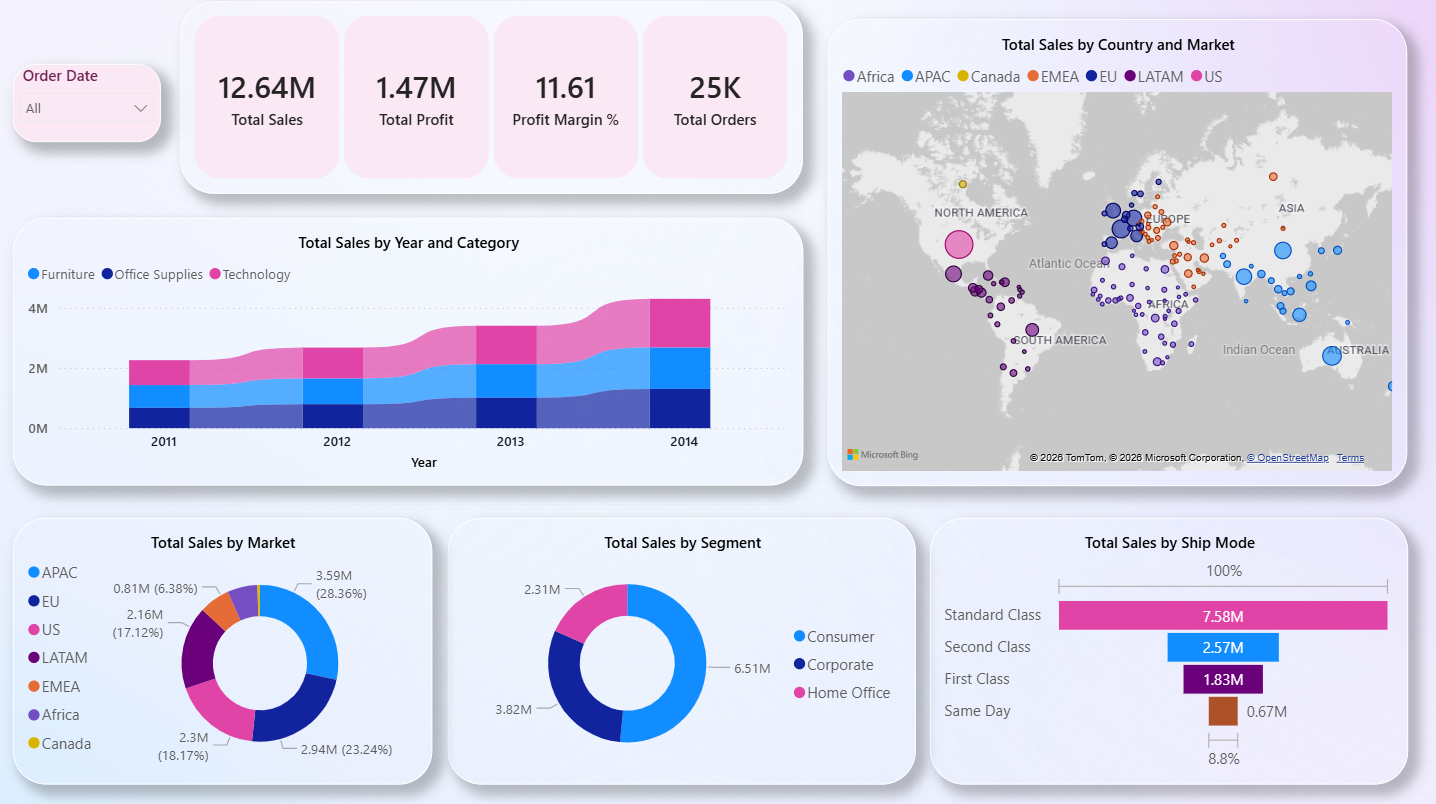

The page's visual inventory and layout, read from the dashboard file:
{"tool":"powerbi","page":{"name":"Page 1","canvas":[1280,720],"ordinal":0},"visuals":[{"type":"cardVisual","fields":{"Data":["Global_Superstore2.Total Sales","Global_Superstore2.Total Profit","Global_Superstore2.Profit Margin %","Global_Superstore2.Total Orders"]},"box":[161.9,2.7,554.4,171.5],"z":0},{"type":"ribbonChart","fields":{"Category":["Global_Superstore2.Order Date.Variation.Date Hierarchy.Year","Global_Superstore2.Order Date.Variation.Date Hierarchy.Quarter","Global_Superstore2.Order Date.Variation.Date Hierarchy.Month","Global_Superstore2.Order Date.Variation.Date Hierarchy.Day"],"Y":["Global_Superstore2.Total Sales"],"Series":["Global_Superstore2.Category"]},"box":[12.3,194.9,703.9,238.8],"z":1000},{"type":"donutChart","fields":{"Category":["Global_Superstore2.Segment"],"Y":["Global_Superstore2.Total Sales"]},"box":[399.3,462.4,417.2,237.4],"z":2000},{"type":"donutChart","fields":{"Category":["Global_Superstore2.Market"],"Y":["Global_Superstore2.Total Sales"]},"box":[12.3,462.4,373.2,237.4],"z":3000},{"type":"map","fields":{"Category":["Global_Superstore2.Country"],"Size":["Global_Superstore2.Total Sales"],"Series":["Global_Superstore2.Market"]},"box":[738.3,17.8,516,415.8],"z":4000},{"type":"slicer","fields":{"Values":["Global_Superstore2.Order Date"]},"box":[12.3,57.6,131.7,70],"z":5000},{"type":"funnel","fields":{"Category":["Global_Superstore2.Ship Mode"],"Y":["Global_Superstore2.Total Sales"]},"box":[828.8,462.4,425.4,237.4],"z":6000}]}

Visuals, with their boxes in screenshot pixels (x1, y1, x2, y2), scaled from the page's 1280x720 canvas onto the 1436x804 screenshot:
cardVisual - Global_Superstore2.Total Sales x Global_Superstore2.Total Profit: detection(182, 3, 804, 195)
ribbonChart - Global_Superstore2.Order Date.Variation.Date Hierarchy.Year x Global_Superstore2.Order Date.Variation.Date Hierarchy.Quarter: detection(14, 218, 803, 484)
donutChart - Global_Superstore2.Segment x Global_Superstore2.Total Sales: detection(448, 516, 916, 781)
donutChart - Global_Superstore2.Market x Global_Superstore2.Total Sales: detection(14, 516, 432, 781)
map - Global_Superstore2.Country x Global_Superstore2.Total Sales: detection(828, 20, 1407, 484)
slicer - Global_Superstore2.Order Date: detection(14, 64, 162, 142)
funnel - Global_Superstore2.Ship Mode x Global_Superstore2.Total Sales: detection(930, 516, 1407, 781)
